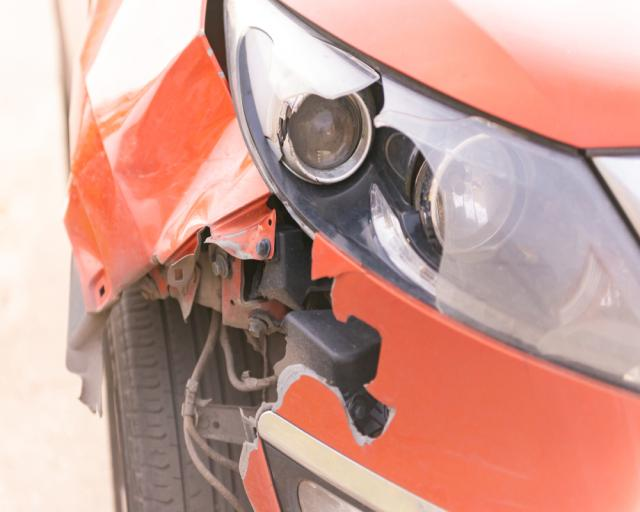lamp broken: (204, 0, 640, 392)
